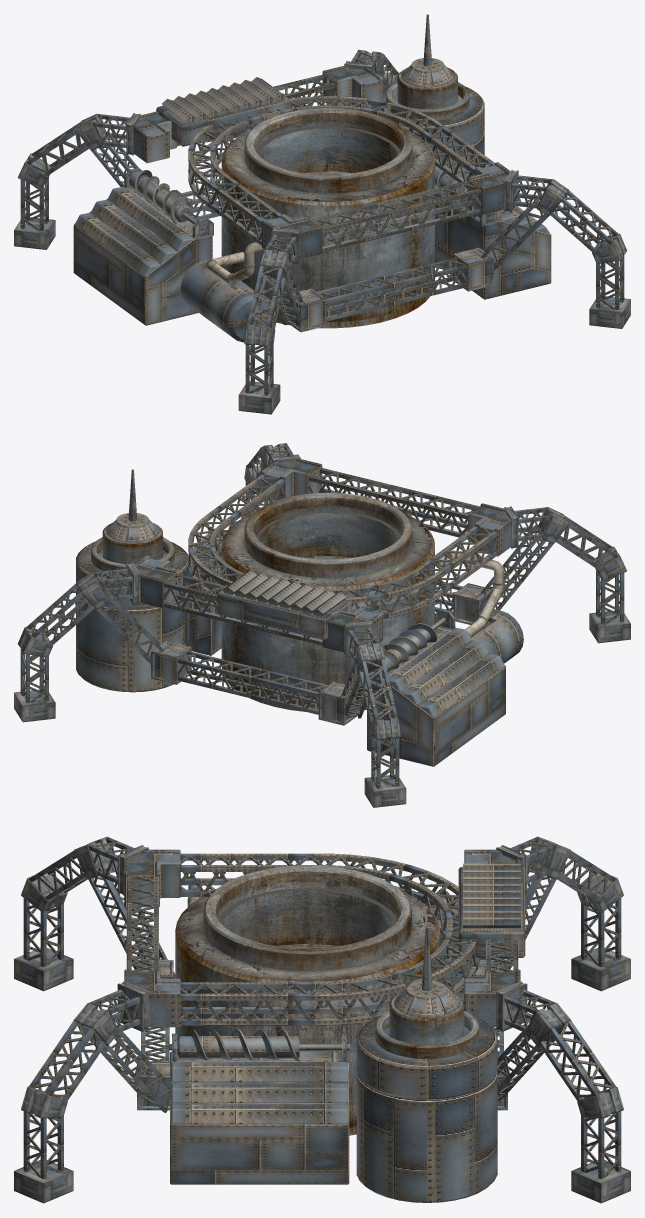
The model's file is static1.glb.
3 views of the same model, one above another, from view 1: azimuth 30°, elevation 25°; view 2: azimuth 150°, elevation 25°; view 3: azimuth 270°, elevation 25° (orthographic). The views are drawn at different scales.
Visible parts, largest first — view 1: Cylinder_Cylinder, Cube_Cube, Tube_2, Boole_1_Cube, Cube_Cube_2, Boole, Cube_121, Cube_56, Cube_1_28, Cube_1_14, Cube, Cube_1_140 (+28 smaller); view 2: Cylinder_Cylinder, Cube_Cube, Cylinder_2_2, Tube_2, Boole_1_Cube, Cube_56, Cube_121, Cube, Cube_1_14, Cube_1_140, Cube_1_138, Cube_1_28 (+31 smaller); view 3: Cylinder_Cylinder, Cylinder_2_2, Cube_Cube_2, Tube_2, Boole_1_Cube, Cube_121, Cylinder_3_2, Cube_1_14, Plane_0_3, Plane_2_3, Cube_1_138, Cube_1_28 (+30 smaller).
Boxes of the visible parts, x1=… form: Cylinder_Cylinder: x1=221, y1=126, x2=434, y2=328; Cube_Cube: x1=73, y1=186, x2=212, y2=325; Tube_2: x1=244, y1=108, x2=412, y2=193; Boole_1_Cube: x1=133, y1=65, x2=510, y2=259; Cube_Cube_2: x1=435, y1=186, x2=551, y2=299; Boole: x1=180, y1=260, x2=269, y2=342; Cube_121: x1=14, y1=217, x2=630, y2=414; Cube_56: x1=175, y1=190, x2=493, y2=332; Cube_1_28: x1=210, y1=105, x2=475, y2=218; Cube_1_14: x1=188, y1=96, x2=494, y2=225; Cube: x1=156, y1=96, x2=290, y2=146; Cube_1_140: x1=76, y1=49, x2=568, y2=279; Cylinder_Cylinder: x1=221, y1=511, x2=434, y2=711; Cube_Cube: x1=367, y1=626, x2=505, y2=766; Cylinder_2_2: x1=76, y1=589, x2=189, y2=692; Tube_2: x1=244, y1=492, x2=412, y2=577; Boole_1_Cube: x1=134, y1=458, x2=511, y2=652; Cube_56: x1=151, y1=583, x2=492, y2=725; Cube_121: x1=14, y1=610, x2=630, y2=807; Cube: x1=217, y1=590, x2=351, y2=639; Cube_1_14: x1=188, y1=474, x2=497, y2=603; Cube_1_140: x1=76, y1=443, x2=568, y2=673; Cube_1_138: x1=18, y1=464, x2=626, y2=739; Cube_1_28: x1=210, y1=479, x2=478, y2=594; Cylinder_Cylinder: x1=175, y1=888, x2=440, y2=1135; Cylinder_2_2: x1=356, y1=1072, x2=497, y2=1202; Cube_Cube_2: x1=170, y1=1051, x2=349, y2=1184; Tube_2: x1=203, y1=865, x2=411, y2=970; Boole_1_Cube: x1=124, y1=849, x2=520, y2=1027; Cube_121: x1=14, y1=947, x2=630, y2=1203; Cylinder_3_2: x1=356, y1=1016, x2=497, y2=1099; Cube_1_14: x1=180, y1=853, x2=477, y2=1000; Plane_0_3: x1=171, y1=1062, x2=347, y2=1082; Plane_2_3: x1=171, y1=1104, x2=347, y2=1124; Cube_1_138: x1=21, y1=873, x2=623, y2=1118; Cube_1_28: x1=179, y1=865, x2=452, y2=989.
Bounding box in the file's own units: 5.36 × 2.6 × 5.88.
Materials: 5 (5 with a texture image).
